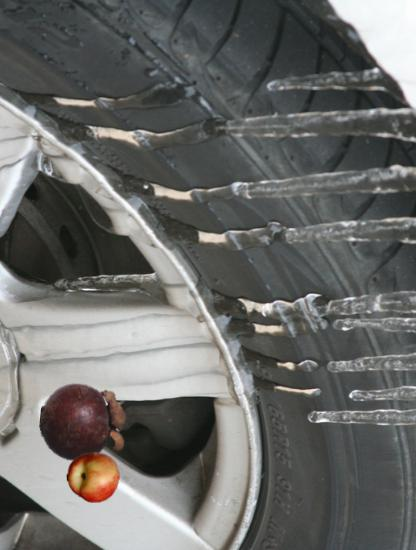Mangostan: (40, 379, 128, 467)
Nectarine: (67, 451, 120, 504)
